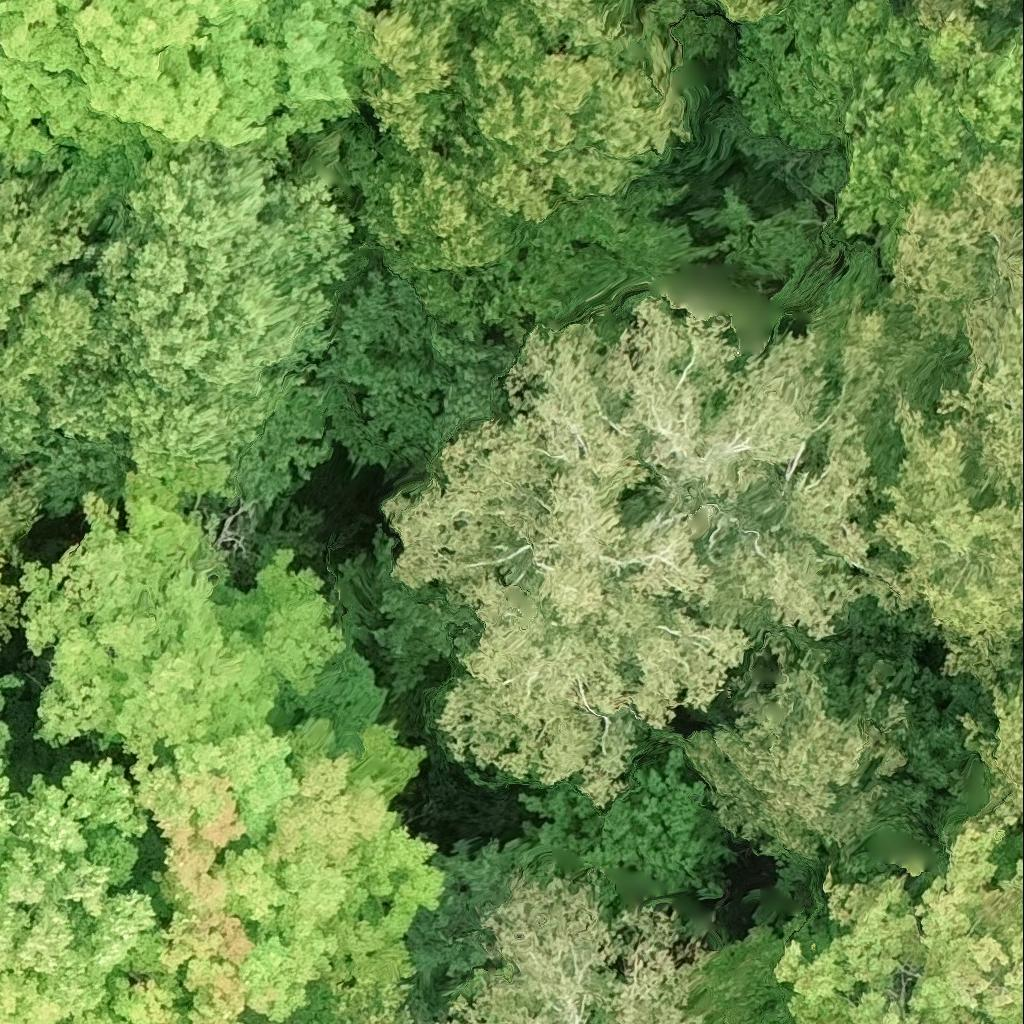crown: (139, 728, 449, 1023), (22, 493, 345, 772), (0, 755, 185, 1023), (434, 869, 707, 1023), (297, 989, 418, 1023), (0, 675, 8, 798)
